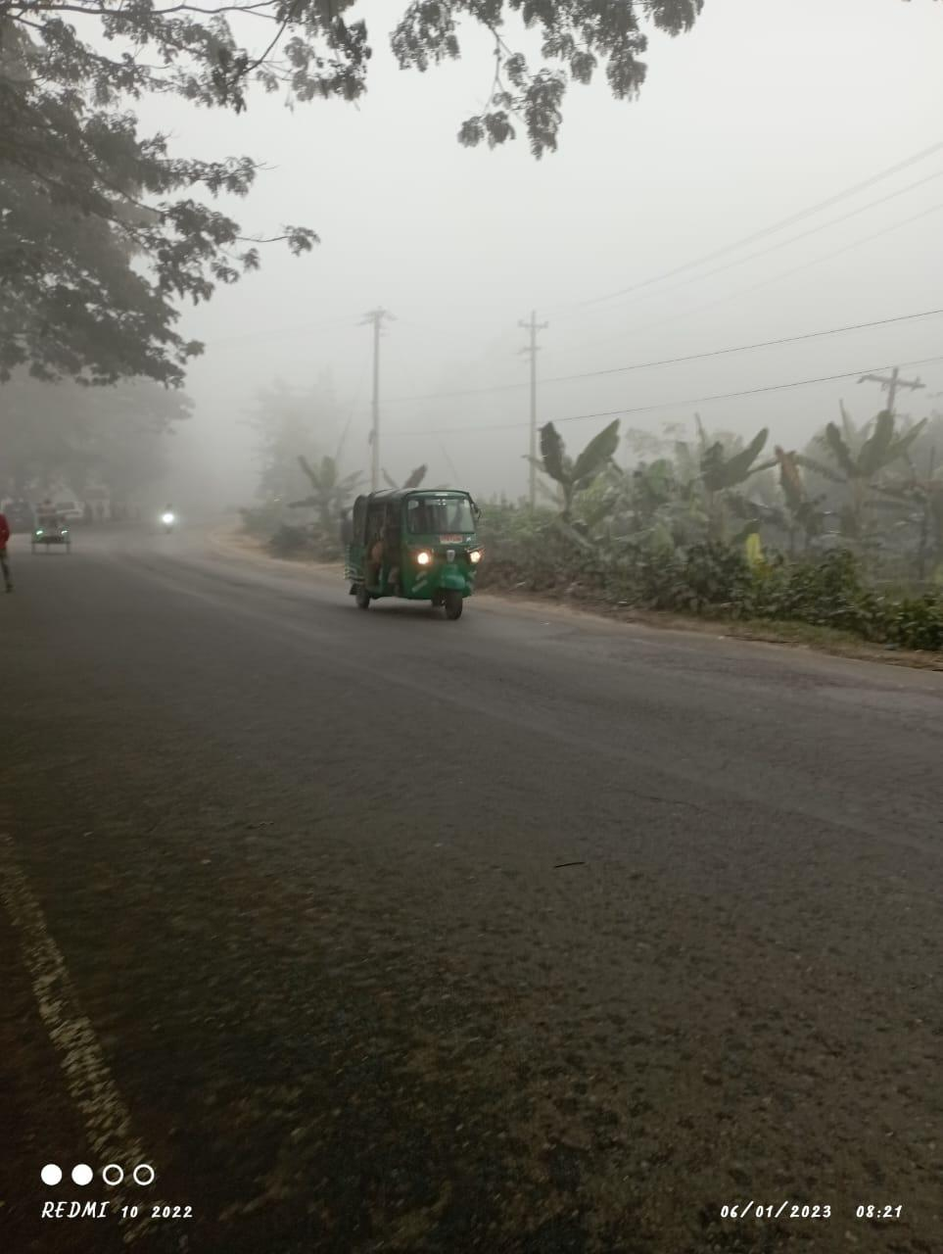Bike: (154, 499, 182, 537)
